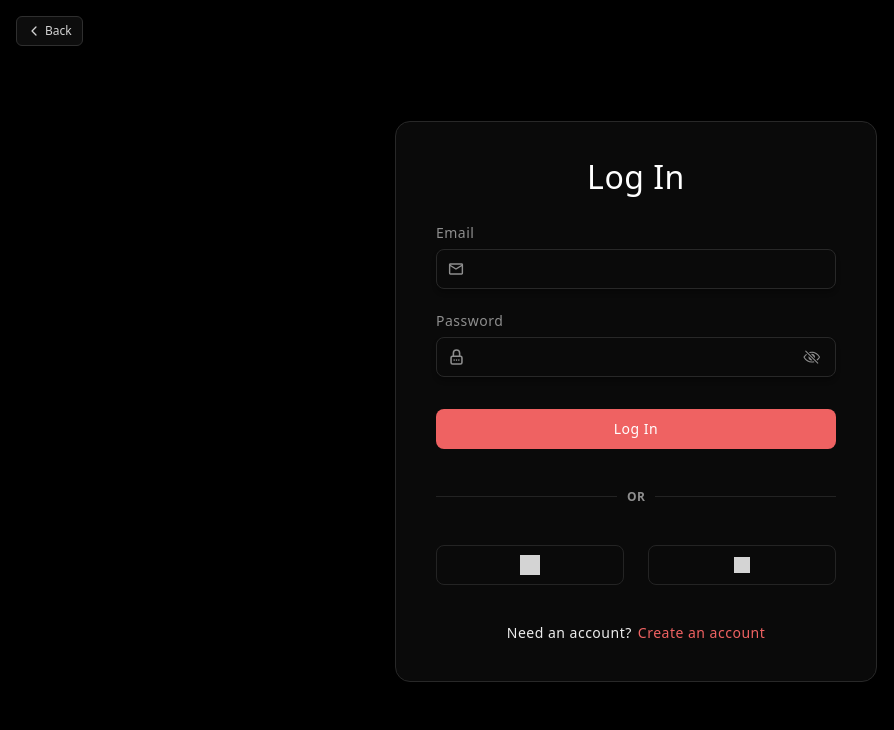
LogInContainer › Google OAuth Login › handles OAuth error
The image size is (894, 730).
Click the button named "Sign in with Google".
click(530, 564)  # box [436, 544, 624, 584]
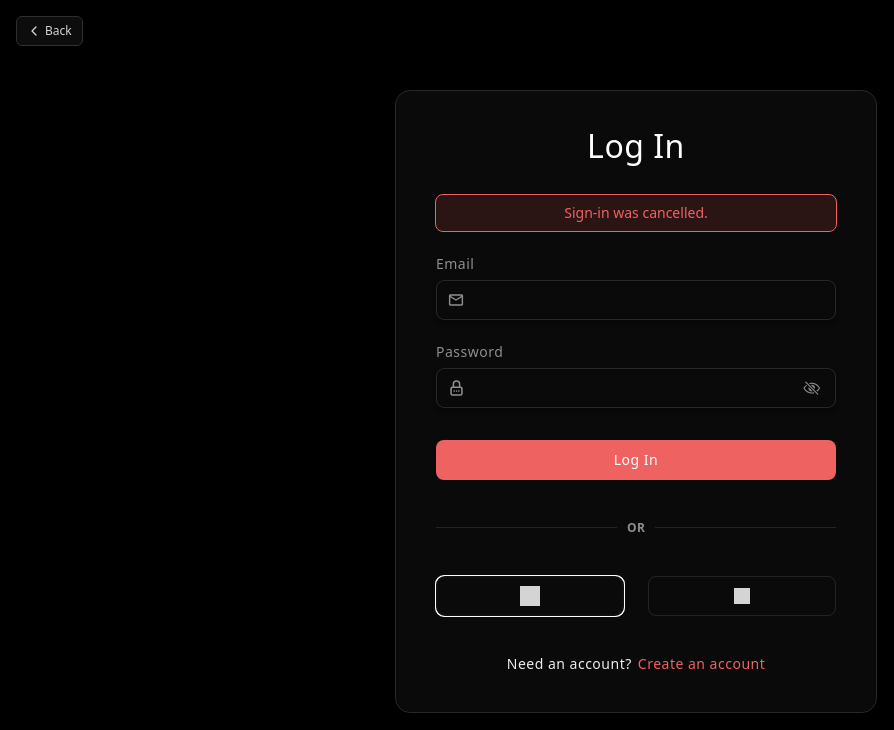
Result: the text "Sign-in was cancelled." is shown at [435, 194, 837, 232]
